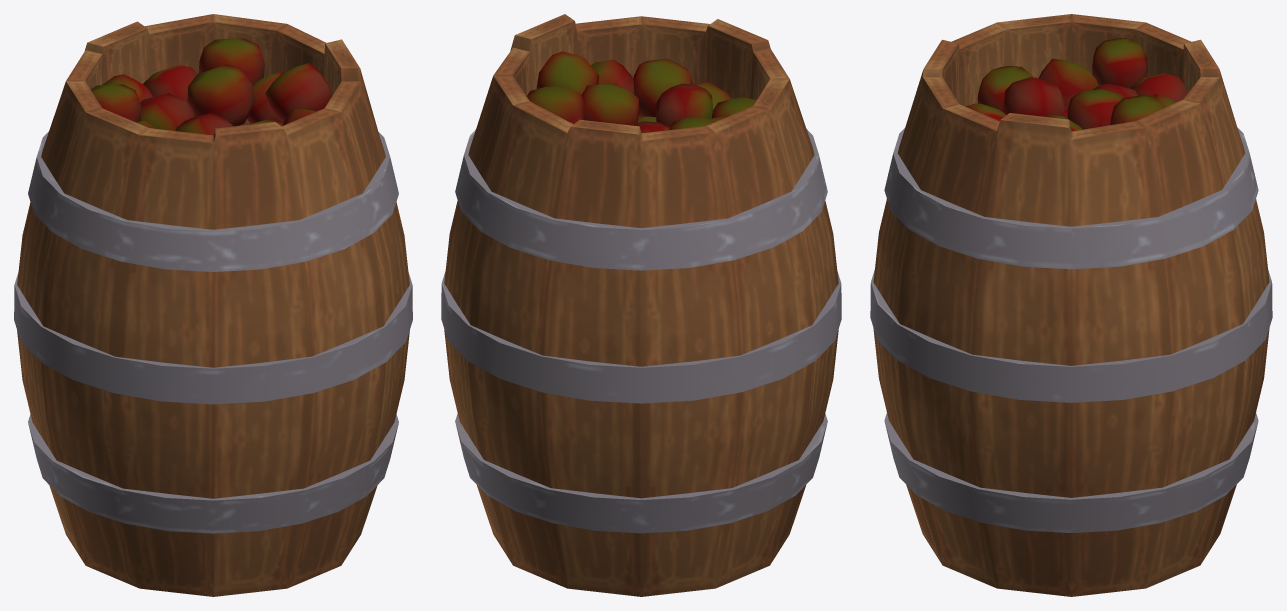
File: barrel_apples.glb
3 views of the same model, side by side, from view 1: azimuth 30°, elevation 25°; view 2: azimuth 150°, elevation 25°; view 3: azimuth 270°, elevation 25° (orthographic).
Visible parts, largest first — view 1: Barrel_Apples; view 2: Barrel_Apples; view 3: Barrel_Apples.
Boxes of the visible parts, box(x1,y1,x2,y2) form: Barrel_Apples: box(14, 14, 412, 596); Barrel_Apples: box(441, 14, 841, 596); Barrel_Apples: box(870, 14, 1272, 596).
Size of the model in its own units: 0.698 by 0.898 by 0.698.
Materials: 3 (3 with a texture image).
